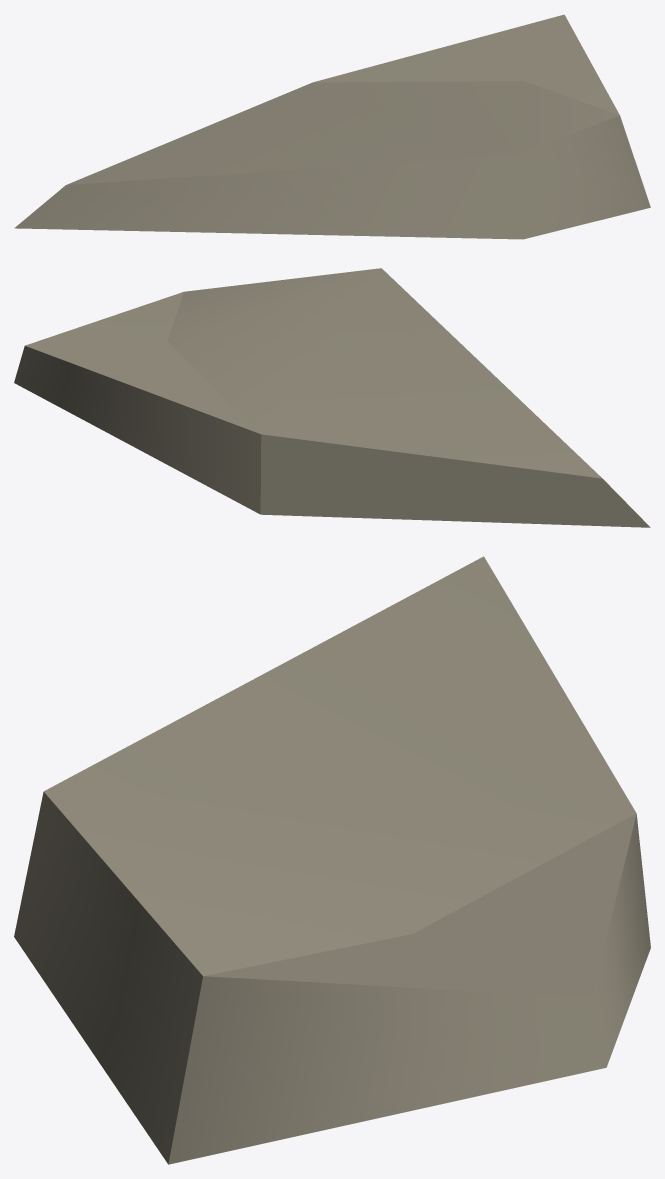
Rendered from Stones_1g.fbx.
3 renders of one model, top to bottom at view 1: azimuth 30°, elevation 25°; view 2: azimuth 150°, elevation 25°; view 3: azimuth 270°, elevation 25°, orthographic. The views are drawn at different scales.
Parts seen in each view (by area): view 1: Stones_1g; view 2: Stones_1g; view 3: Stones_1g.
Part boxes in pixels (x1=…): Stones_1g: x1=14, y1=14, x2=650, y2=239; Stones_1g: x1=14, y1=268, x2=650, y2=527; Stones_1g: x1=14, y1=556, x2=650, y2=1164.
Bounding box in the file's own units: 49.66 × 9.6 × 25.22.
